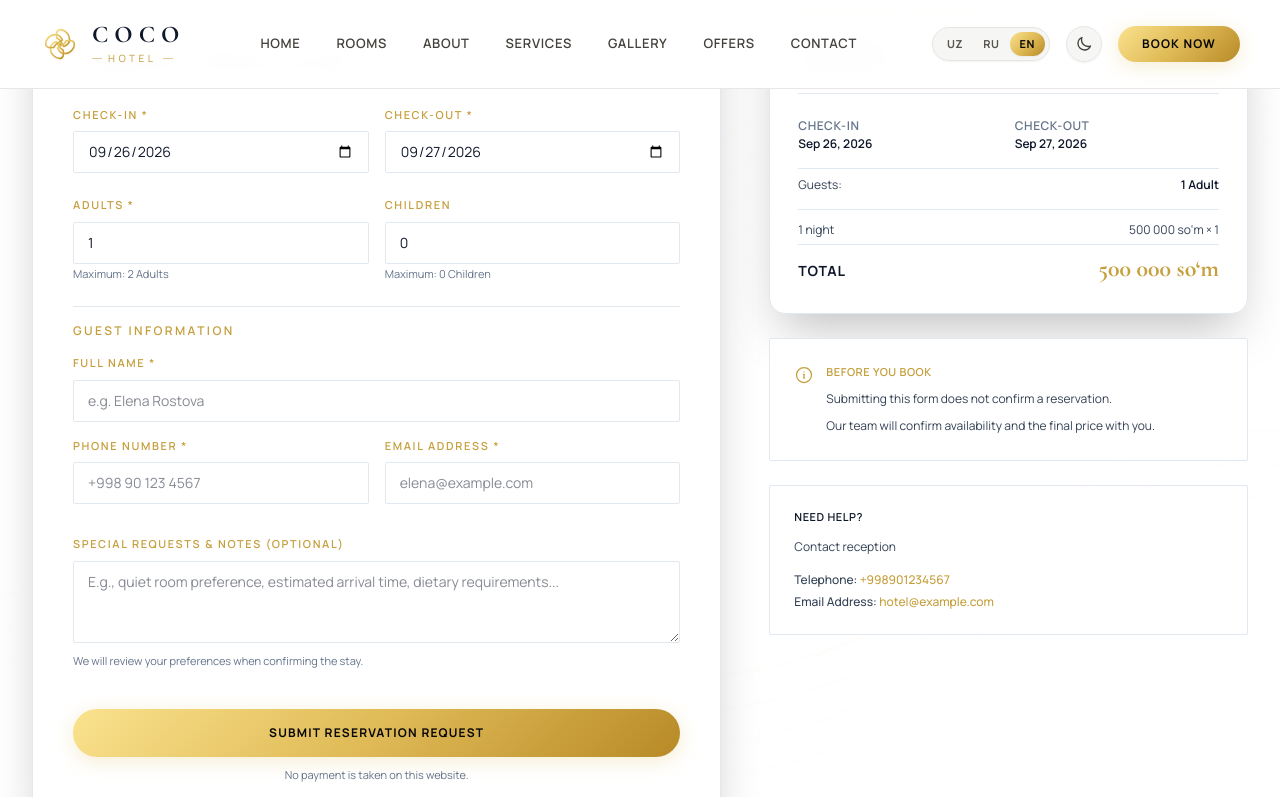
Public pages › submits a real booking payload and shows the server reference
The width and height of the screenshot is (1280, 797).
(page scrolled)
Type "Guest Name" into the field with id "booking-fullname" at (377, 400), box [73,380,680,422]
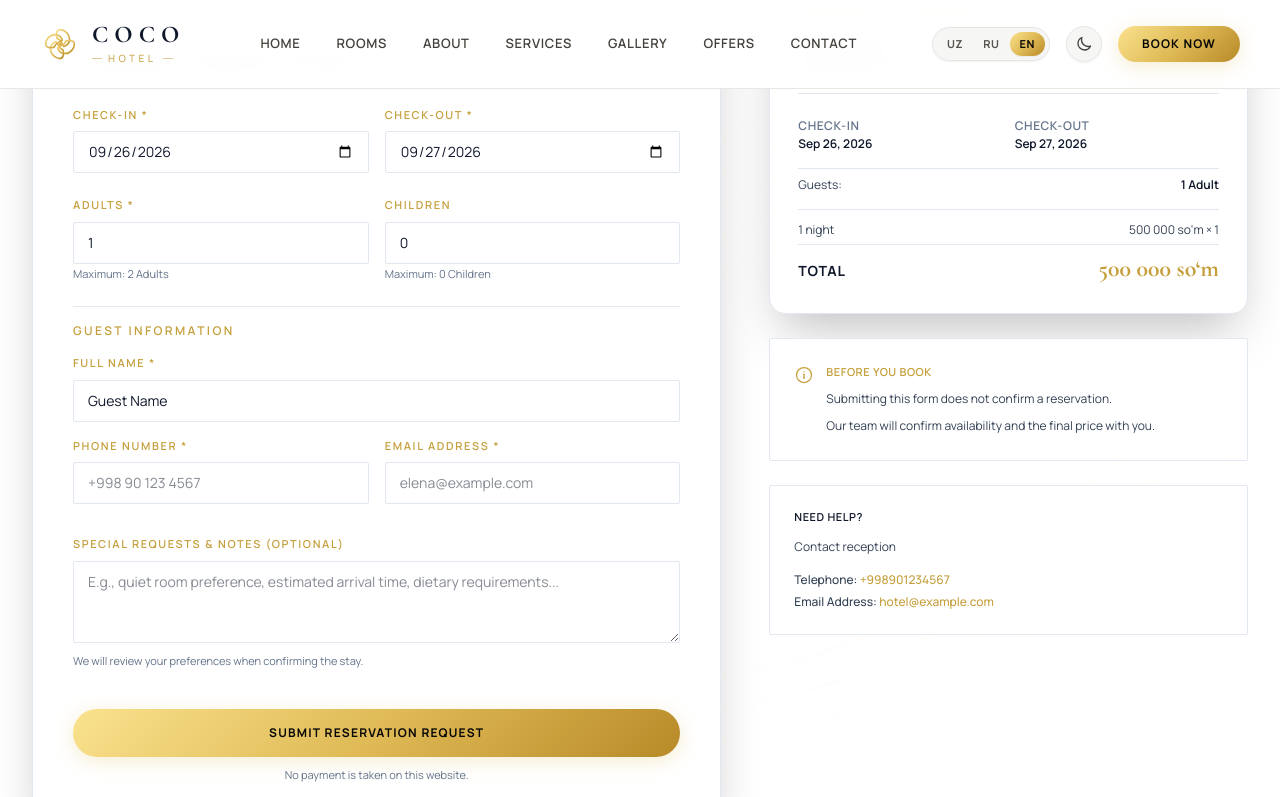
Type "+998901234567" into the field with id "booking-phone" at (221, 483), box [73,462,369,504]
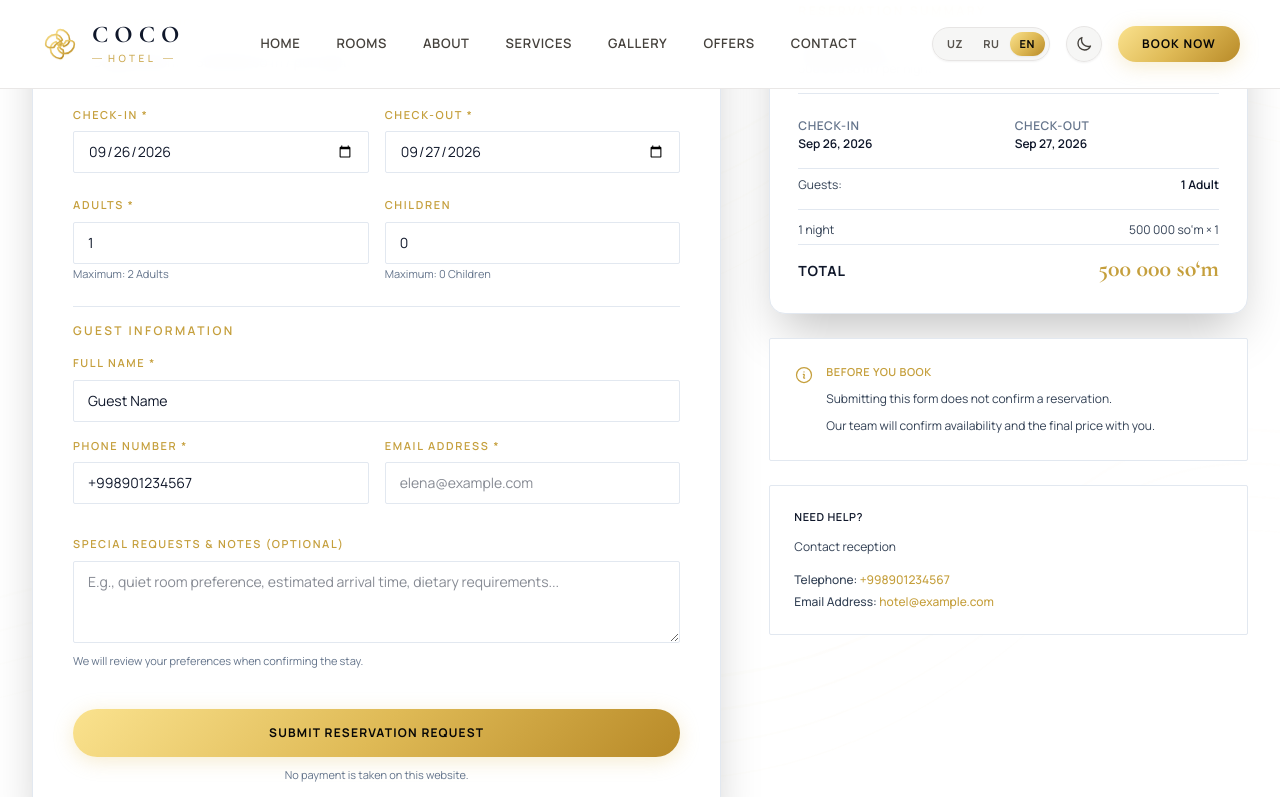
Type "guest@example.com" into the field with id "booking-email" at (533, 483), box [385,462,680,504]
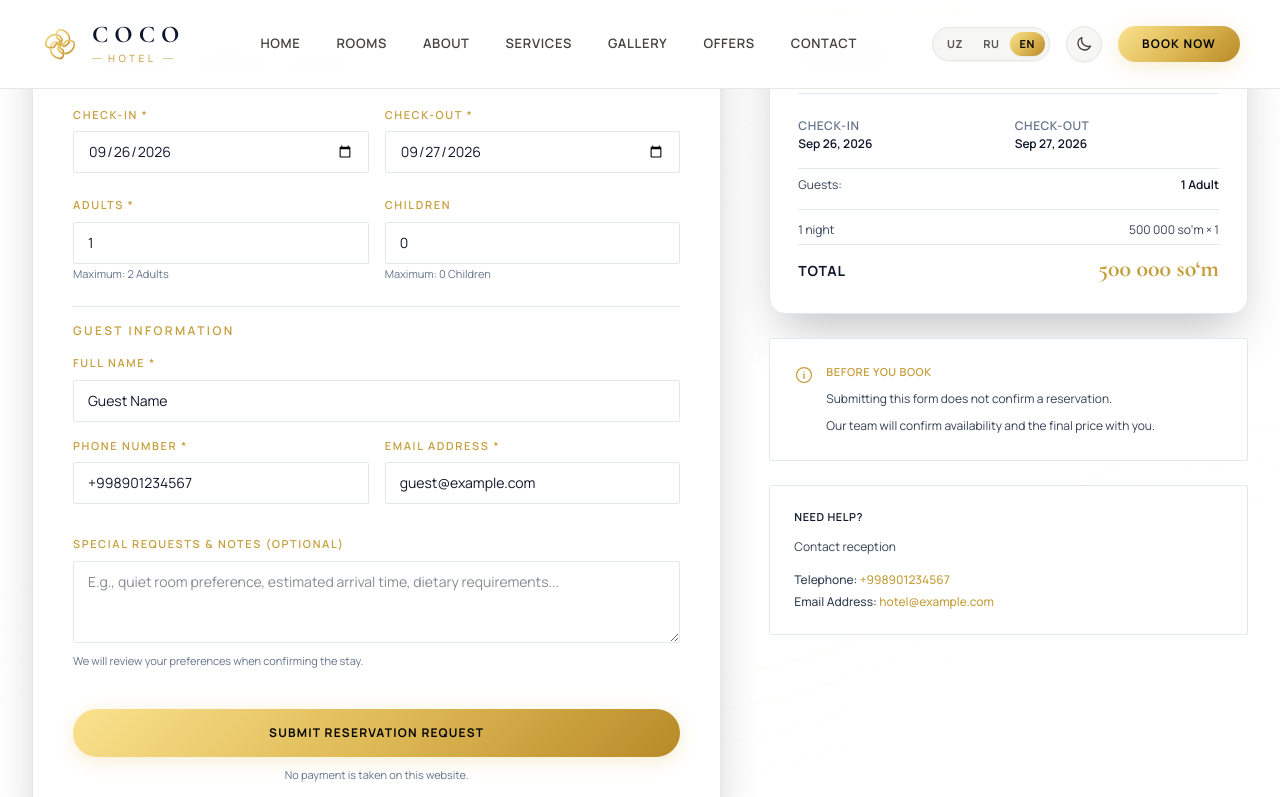
Click the button "Submit Reservation Request" at (377, 733), box [73,709,680,757]
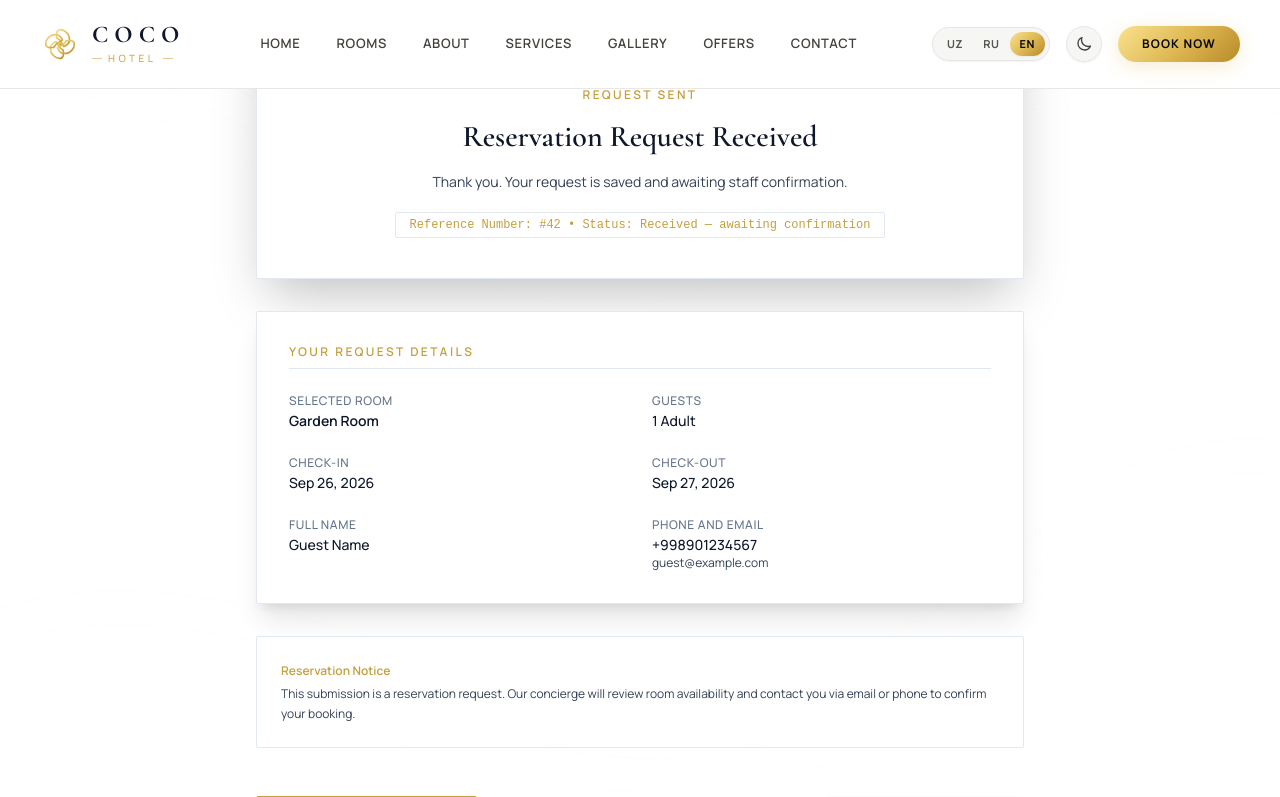
Expected: the text "42" is shown, [546,218,561,232]
